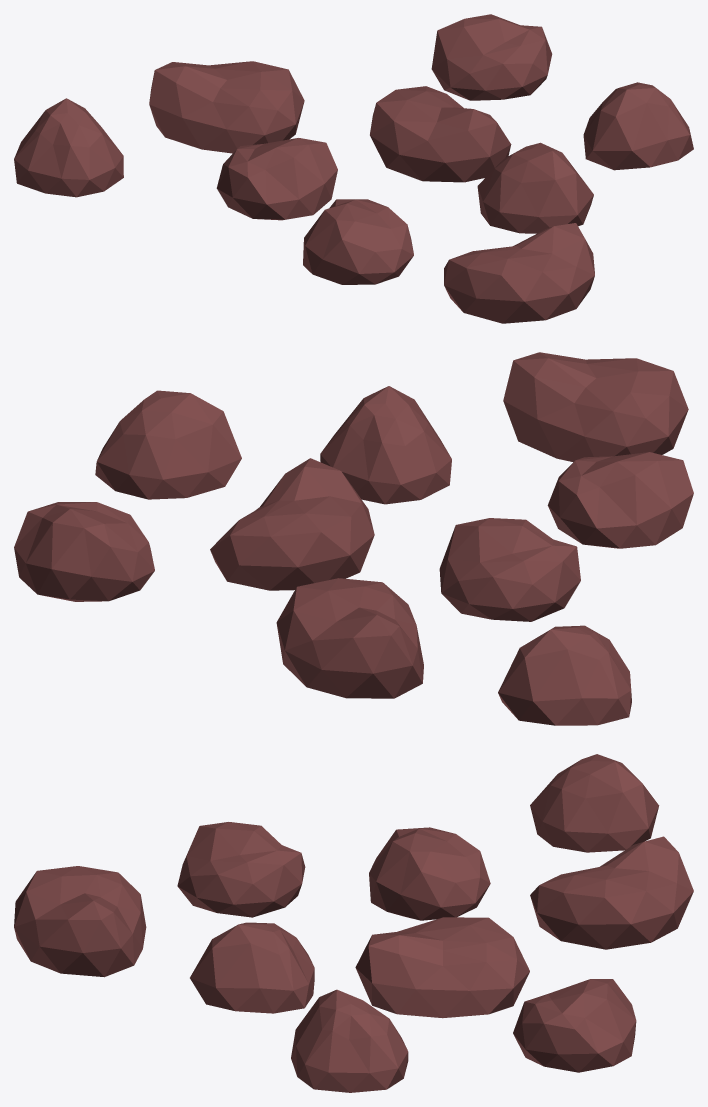
Rendered from Marsrock1.fbx.
3 renders of one model, top to bottom at view 1: azimuth 30°, elevation 25°; view 2: azimuth 150°, elevation 25°; view 3: azimuth 270°, elevation 25°, orthographic. The views are drawn at different scales.
Visible parts, largest first — view 1: Rocks; view 2: Rocks; view 3: Rocks.
Boxes of the visible parts, x1,y1,x2,y2 form: Rocks: (14, 14, 693, 323); Rocks: (14, 352, 693, 725); Rocks: (14, 754, 693, 1092).
Bounding box in the file's own units: 223 × 29.82 × 222.
